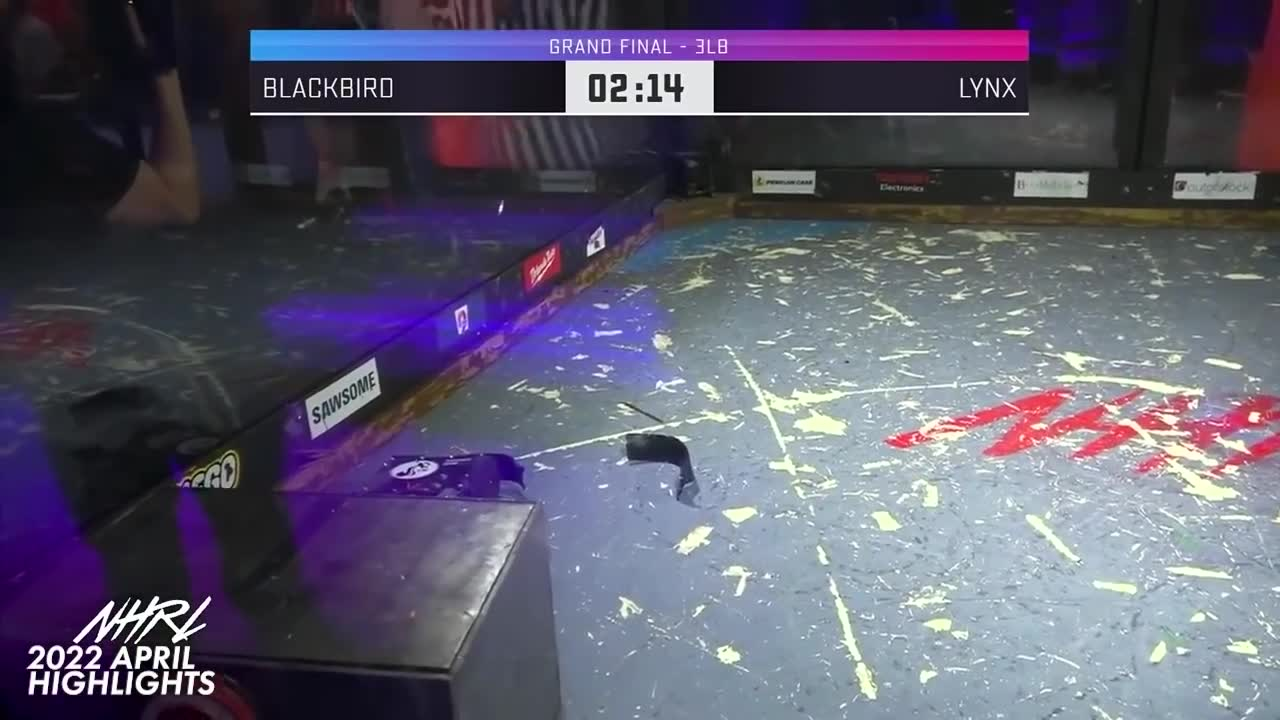combatbot: (374, 450, 526, 501)
debris: (624, 429, 698, 506)
housebot: (1, 485, 545, 720), (820, 477, 824, 480)
